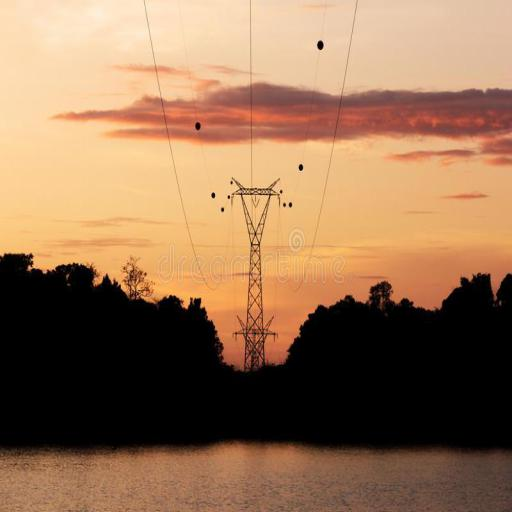wt_6: (230, 176, 281, 370)
